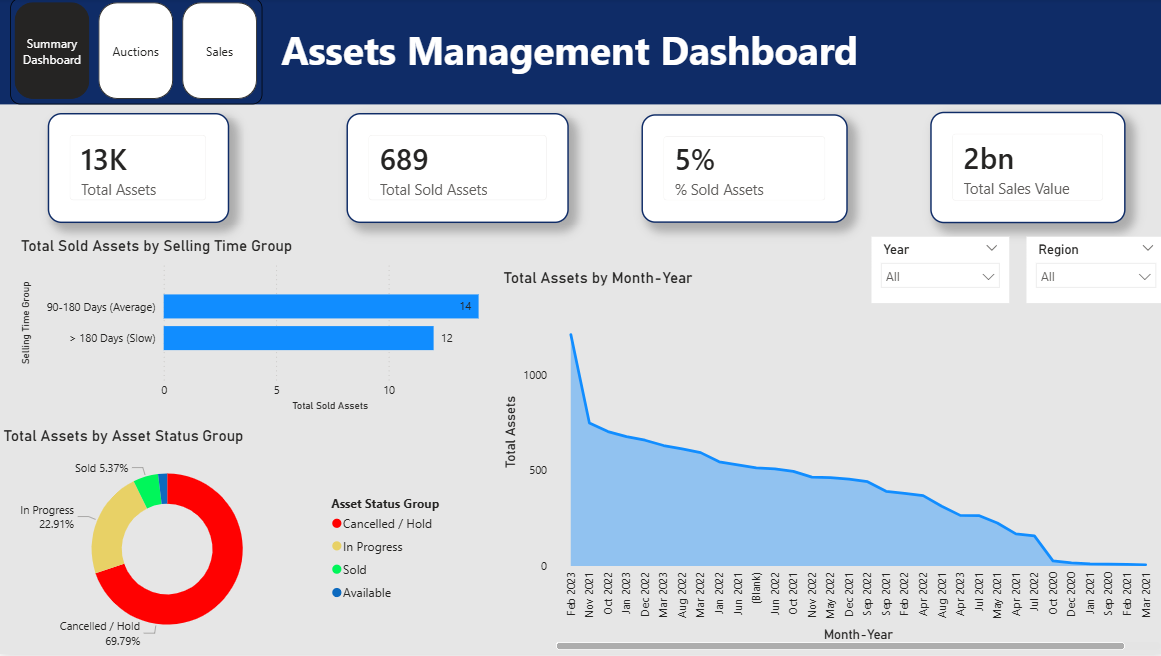

The page's visual inventory and layout, read from the dashboard file:
{"tool":"powerbi","page":{"name":"Summary Dashboard","canvas":[1280,720],"ordinal":0},"visuals":[{"type":"cardVisual","fields":{"Data":["Key Measures.Total Assets"]},"box":[53.5,126.2,199,120.8],"z":0},{"type":"cardVisual","fields":{"Data":["Key Measures.Total Sold Assets"]},"box":[381.5,126.2,244.3,120.8],"z":1000},{"type":"cardVisual","fields":{"Data":["Key Measures.% Sold Assets"]},"box":[705.3,127.6,226.4,119.4],"z":2000},{"type":"cardVisual","fields":{"Data":["Key Measures.Total Sales Value"]},"box":[1022.3,124.9,214.1,122.1],"z":3000},{"type":"donutChart","fields":{"Y":["Key Measures.Total Assets"],"Category":["Assets.Asset Status Group"]},"box":[0,470.7,503.6,249.7],"z":4000},{"type":"areaChart","fields":{"Y":["Key Measures.Total Assets"],"Category":["Calendar.Month-Year"]},"box":[548.9,296.4,731.4,424],"z":5000},{"type":"textbox","box":[0,0,1280.3,116.6],"z":6000},{"type":"textbox","box":[293.7,22,665.5,74.1],"z":7000},{"type":"clusteredBarChart","fields":{"Category":["Assets.Selling Time Group"],"Y":["Key Measures.Total Sold Assets"]},"box":[19.2,262.1,539.3,196.2],"z":8000},{"type":"slicer","fields":{"Values":["Calendar.Year"]},"box":[957.8,262.1,150.9,72.7],"z":9000},{"type":"slicer","fields":{"Values":["Assets.Region"]},"box":[1128,262.1,152.3,72.7],"z":10000},{"type":"pageNavigator","box":[12.3,0,277.2,116.6],"z":11000}]}

Visuals, with their boxes in screenshot pixels (x1, y1, x2, y2), scaled from the page's 1280x720 canvas onto the 1161x656 screenshot:
cardVisual - Key Measures.Total Assets: box(49, 115, 229, 225)
cardVisual - Key Measures.Total Sold Assets: box(346, 115, 568, 225)
cardVisual - Key Measures.% Sold Assets: box(640, 116, 845, 225)
cardVisual - Key Measures.Total Sales Value: box(927, 114, 1121, 225)
donutChart - Key Measures.Total Assets x Assets.Asset Status Group: box(0, 429, 457, 655)
areaChart - Key Measures.Total Assets x Calendar.Month-Year: box(498, 270, 1160, 655)
textbox: box(0, 0, 1160, 106)
textbox: box(266, 20, 870, 88)
clusteredBarChart - Assets.Selling Time Group x Key Measures.Total Sold Assets: box(17, 239, 507, 418)
slicer - Calendar.Year: box(869, 239, 1006, 305)
slicer - Assets.Region: box(1023, 239, 1160, 305)
pageNavigator: box(11, 0, 263, 106)
